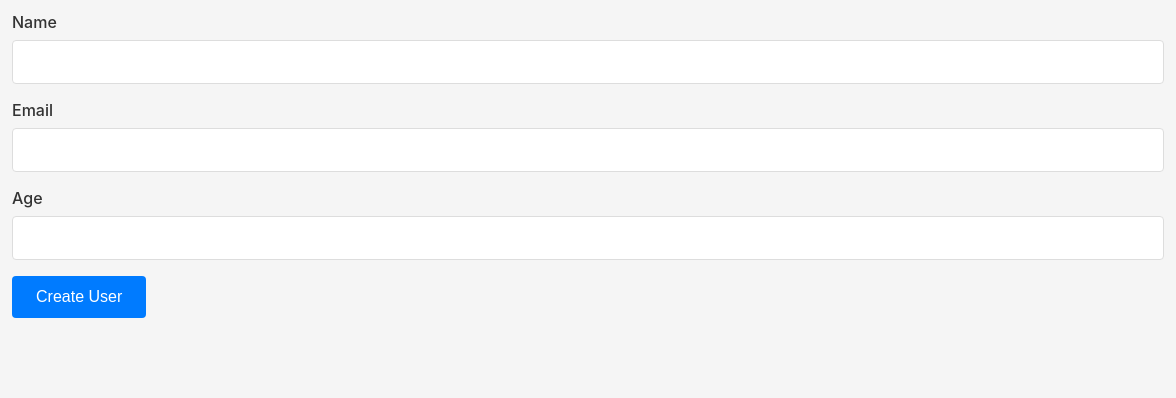
UserForm Component › validates name length
Type "a" into the field with test id "name-input" at (588, 62), box [12,40,1164,84]
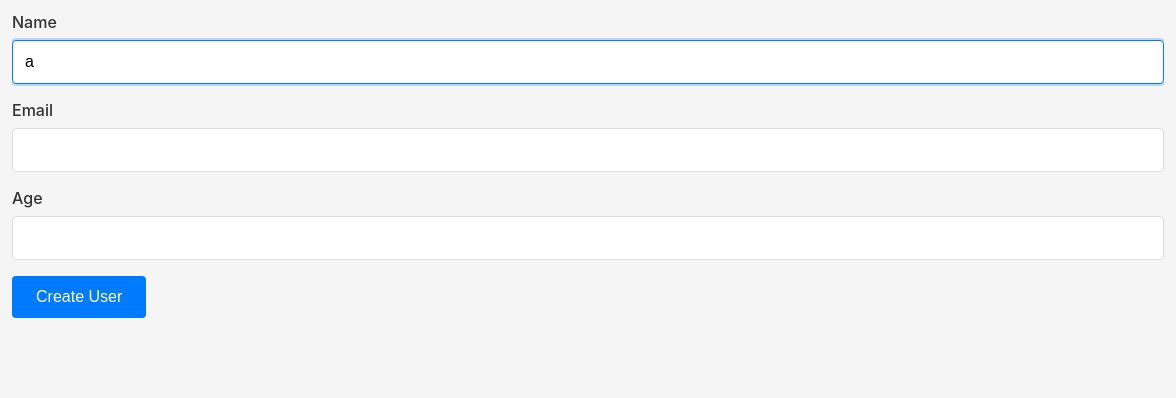
Click the button with test id "submit-button" at (79, 297), box [12,276,146,318]
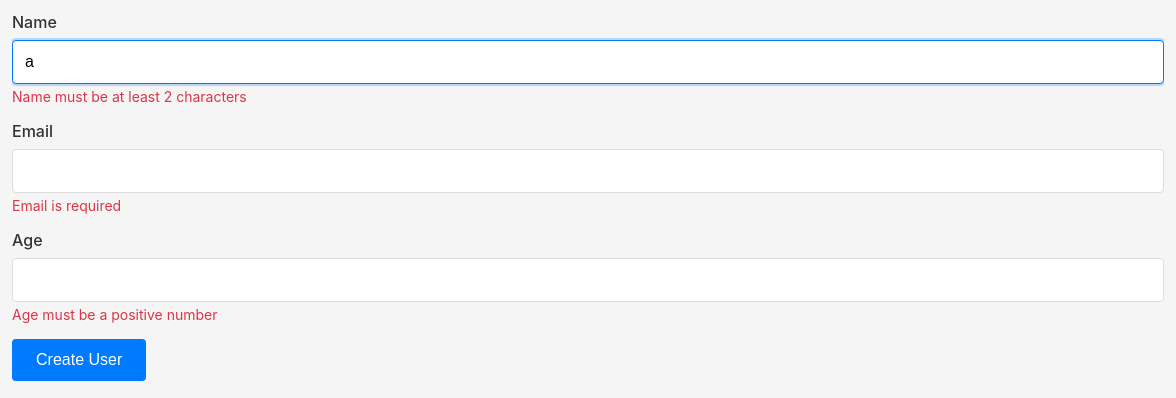
Check: the text with test id "name-error" reads "Name must be at least 2 characters", box [12,88,247,105]
